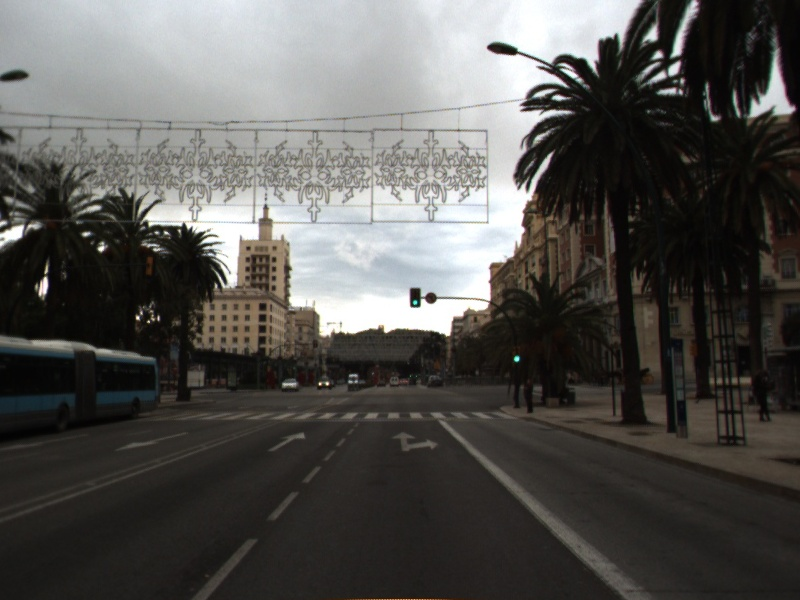STRAIGHT: (265, 429, 307, 454)
STRAIGHT_RIGHT: (389, 429, 440, 453)
